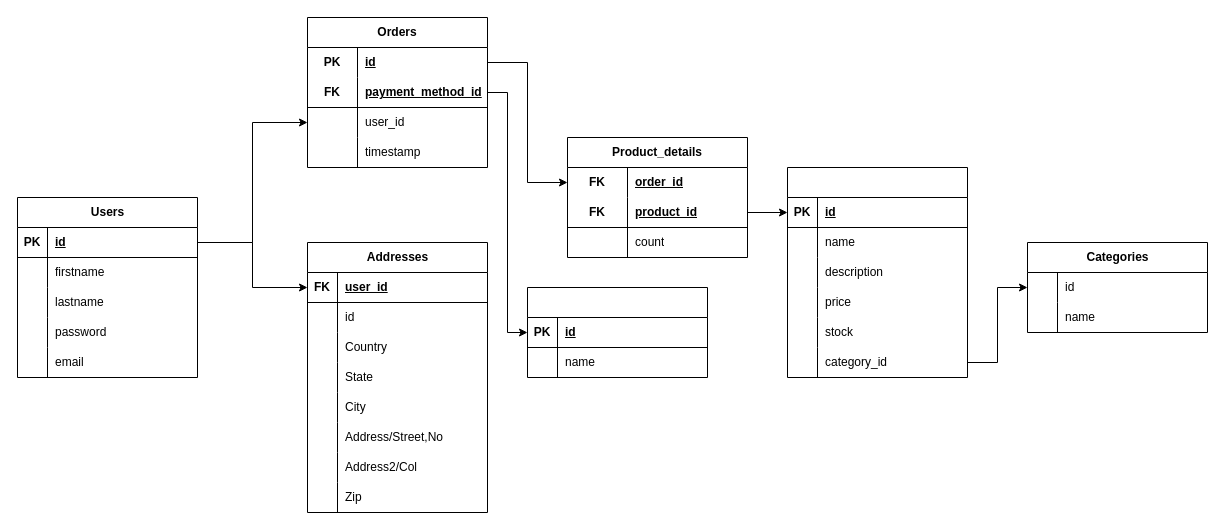
The diagram is 1225 pixels wide and 530 high, and some of its shapes have lost their labels. Each missing label, with the box of its shape:
Payment_methods: (526, 286, 708, 378)
Products: (786, 166, 968, 378)
